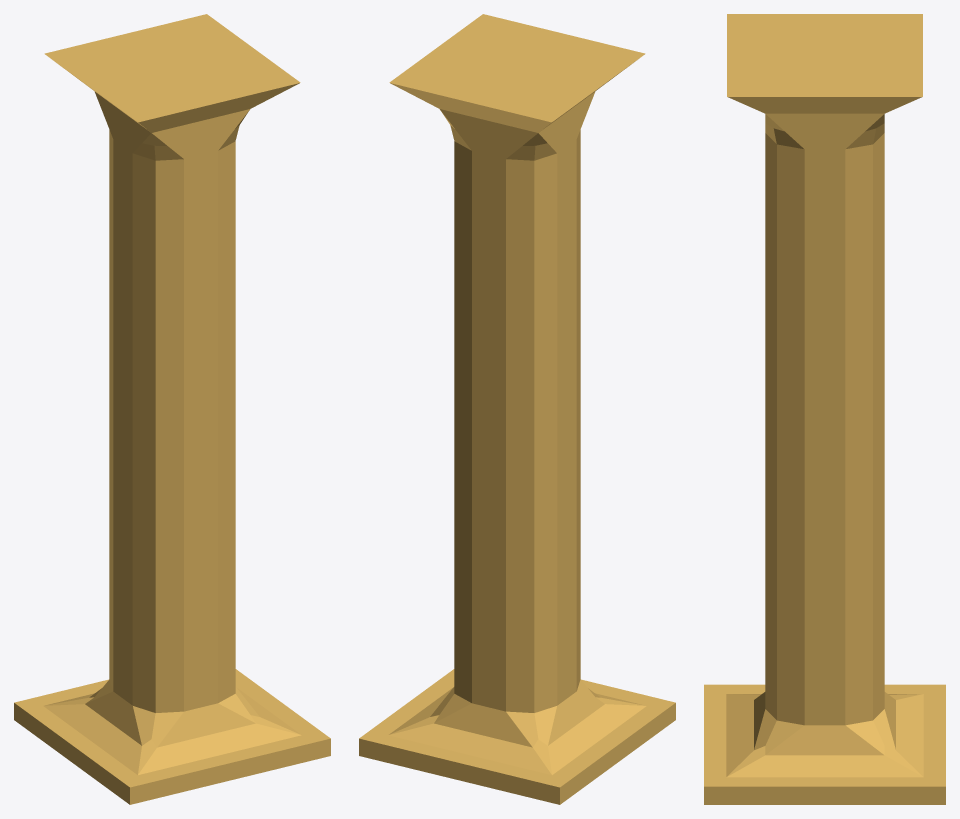
File: pillar.glb
The picture shows the model from 3 angles, left to right: view 1: azimuth 30°, elevation 25°; view 2: azimuth 150°, elevation 25°; view 3: azimuth 270°, elevation 25°; orthographic projection. The views are drawn at different scales.
Parts seen in each view (by area): view 1: Cube; view 2: Cube; view 3: Cube.
Boxes of the visible parts, <box> form: Cube: <box>14,14,330,804</box>; Cube: <box>359,14,675,804</box>; Cube: <box>704,14,945,804</box>.
Size of the model in its own units: 2 by 6.37 by 2.
